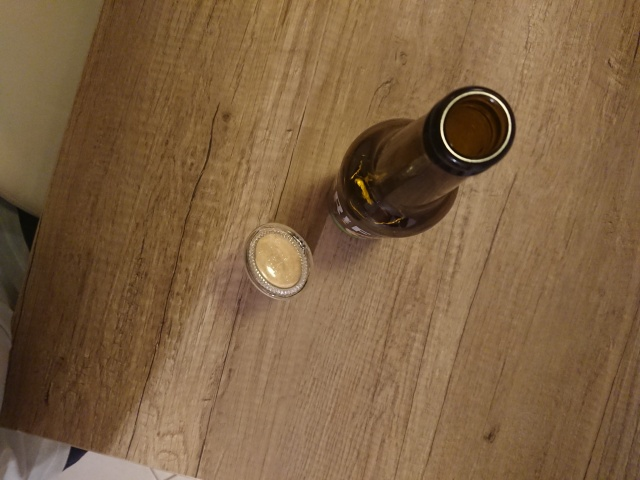Kotanyi Garlic Granules 70g: (240, 218, 318, 304)
